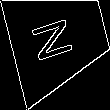N_E: (33, 14, 84, 66)
